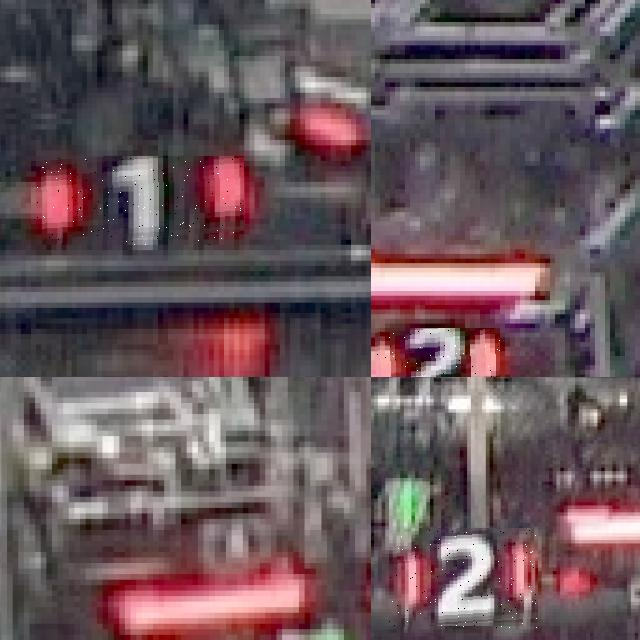R1: (36, 156, 244, 245)
R2: (389, 528, 538, 628), (371, 328, 500, 377)
